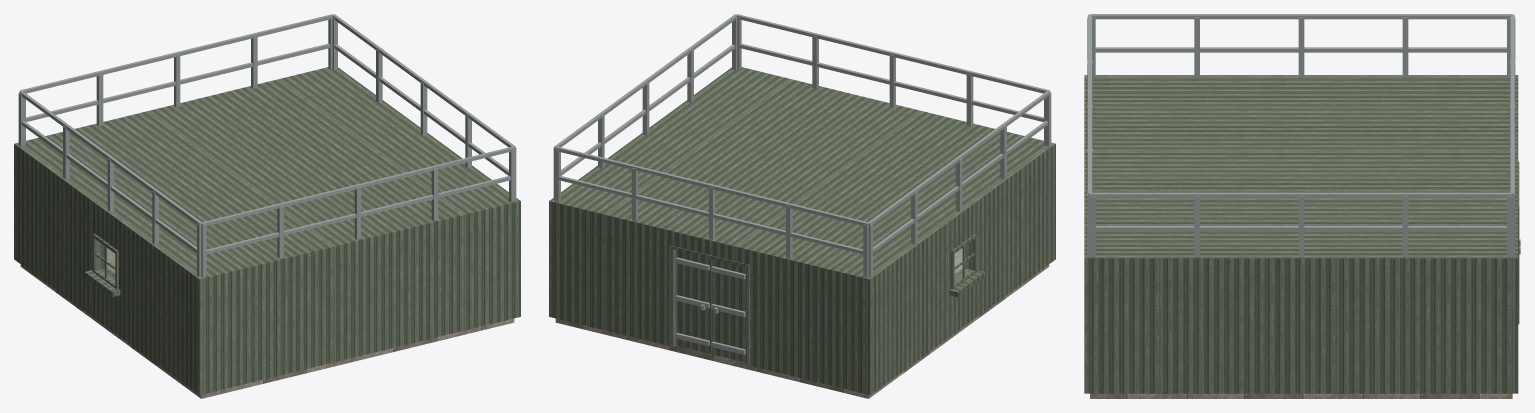
The model's file is cyclone-roof-store.gltf.
3 views of the same model, side by side, from view 1: azimuth 30°, elevation 25°; view 2: azimuth 150°, elevation 25°; view 3: azimuth 270°, elevation 25° (orthographic). The views are drawn at different scales.
Visible parts, largest first — view 1: exterior-L0-metal, roof-L1-metal, roof-guards-L1-iron, datum-band-L0-metal, floor-L0-stone, facade-trim-L0-metal; view 2: roof-L1-metal, exterior-L0-metal, roof-guards-L1-iron, datum-band-L0-metal, door-L0-metal (×2), floor-L0-stone, portal-trim-L0-metal, door-L0-iron (×2), facade-trim-L0-metal; view 3: roof-L1-metal, exterior-L0-metal, roof-guards-L1-iron, datum-band-L0-metal, floor-L0-stone.
Boxes of the visible parts, box(x1,y1,x2,y2) form: exterior-L0-metal: box(14, 150, 520, 394); roof-L1-metal: box(23, 69, 508, 273); roof-guards-L1-iron: box(18, 14, 516, 277); datum-band-L0-metal: box(14, 67, 520, 285); floor-L0-stone: box(20, 264, 514, 398); facade-trim-L0-metal: box(84, 233, 120, 296); roof-L1-metal: box(560, 69, 1043, 275); exterior-L0-metal: box(549, 150, 1055, 394); roof-guards-L1-iron: box(553, 14, 1051, 277); datum-band-L0-metal: box(549, 67, 1055, 285); door-L0-metal (×2): box(676, 250, 745, 362); floor-L0-stone: box(555, 264, 1049, 398); portal-trim-L0-metal: box(670, 245, 749, 365); door-L0-iron (×2): box(675, 257, 745, 354); facade-trim-L0-metal: box(949, 233, 985, 296); roof-L1-metal: box(1093, 77, 1509, 255); exterior-L0-metal: box(1084, 266, 1518, 393); roof-guards-L1-iron: box(1087, 14, 1515, 257); datum-band-L0-metal: box(1084, 75, 1518, 265); floor-L0-stone: box(1090, 393, 1512, 398).
Bounding box in the file's own units: 6.32 × 3.22 × 6.19.
Materials: 5 (3 with a texture image).
